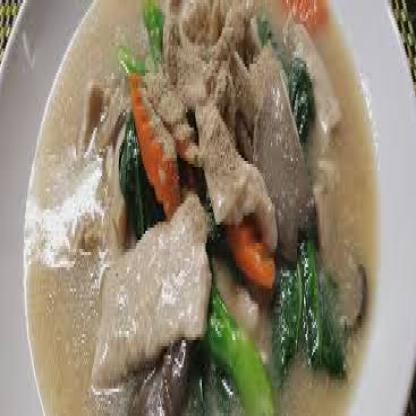Laadna: (26, 3, 389, 413)
